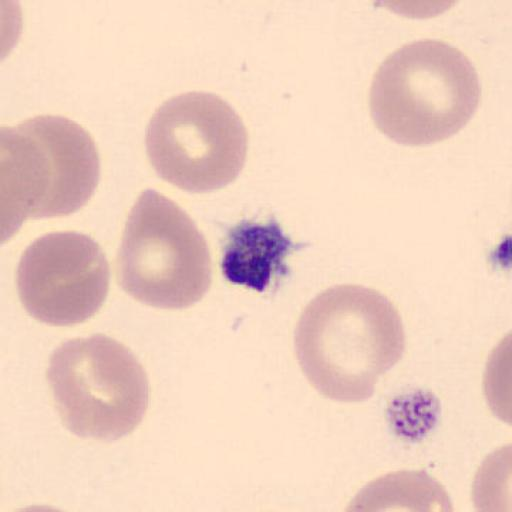Platelet: (218, 213, 296, 296), (381, 383, 447, 446)
RBC: (292, 281, 408, 406), (366, 36, 483, 149), (115, 185, 214, 311), (45, 332, 151, 444), (142, 88, 250, 196), (4, 112, 102, 221), (14, 230, 112, 330), (1, 123, 49, 244), (336, 467, 458, 512), (1, 125, 35, 246), (480, 327, 512, 433), (471, 438, 512, 512), (370, 0, 471, 21), (0, 1, 26, 67), (0, 502, 88, 512)
